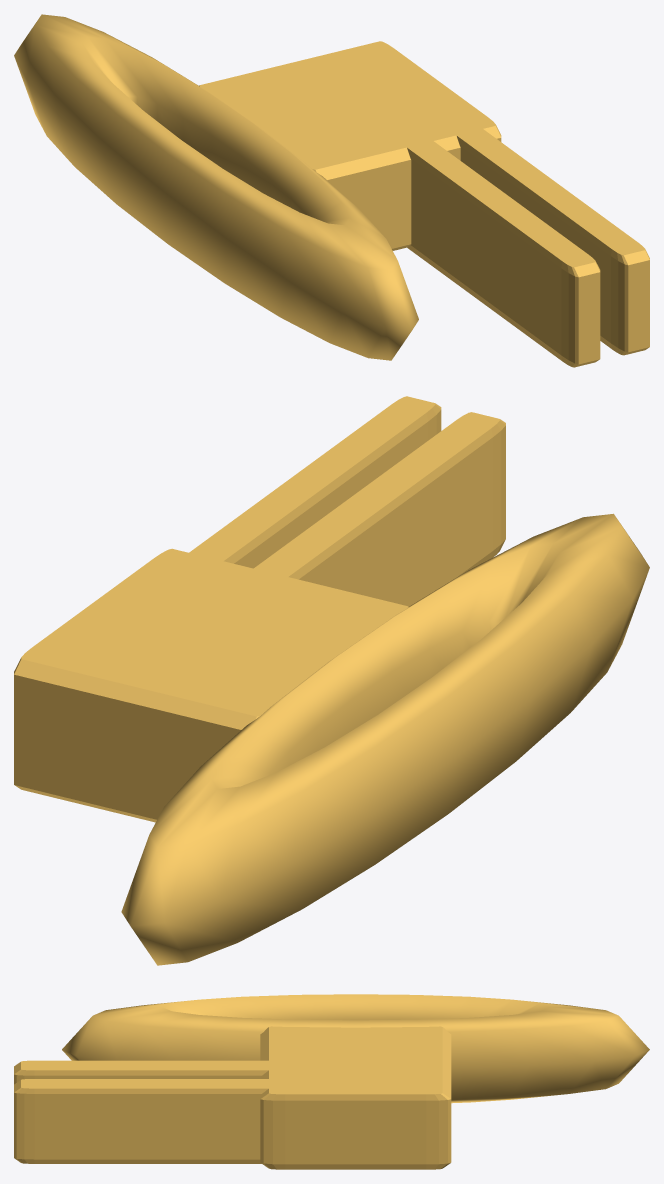
File: house_key.glb
The picture shows the model from 3 angles, top to bottom: view 1: azimuth 30°, elevation 25°; view 2: azimuth 150°, elevation 25°; view 3: azimuth 270°, elevation 25°; orthographic projection. The views are drawn at different scales.
Parts seen in each view (by area): view 1: model; view 2: model; view 3: model.
Part boxes in pixels (<box>): model: <box>14,14,649,367</box>; model: <box>14,396,649,965</box>; model: <box>14,994,649,1169</box>.
Size of the model in its own units: 0.13 by 0.05 by 0.34.
